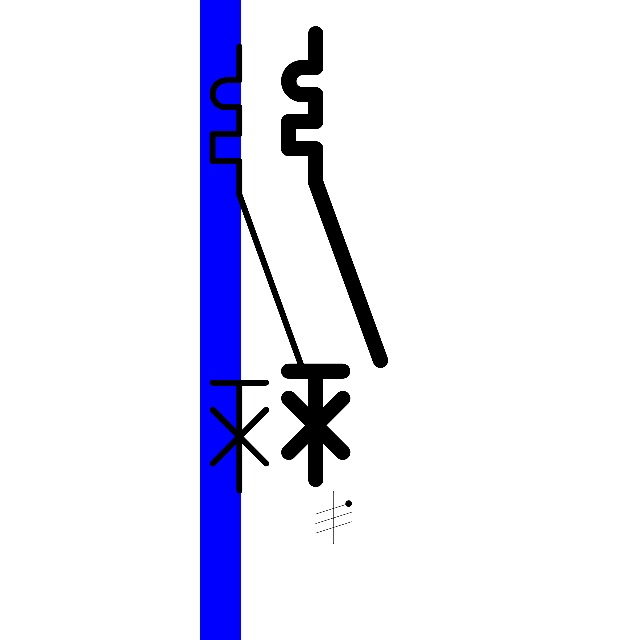interruptor_termomagnetico: (277, 22, 392, 491), (201, 35, 315, 502)
